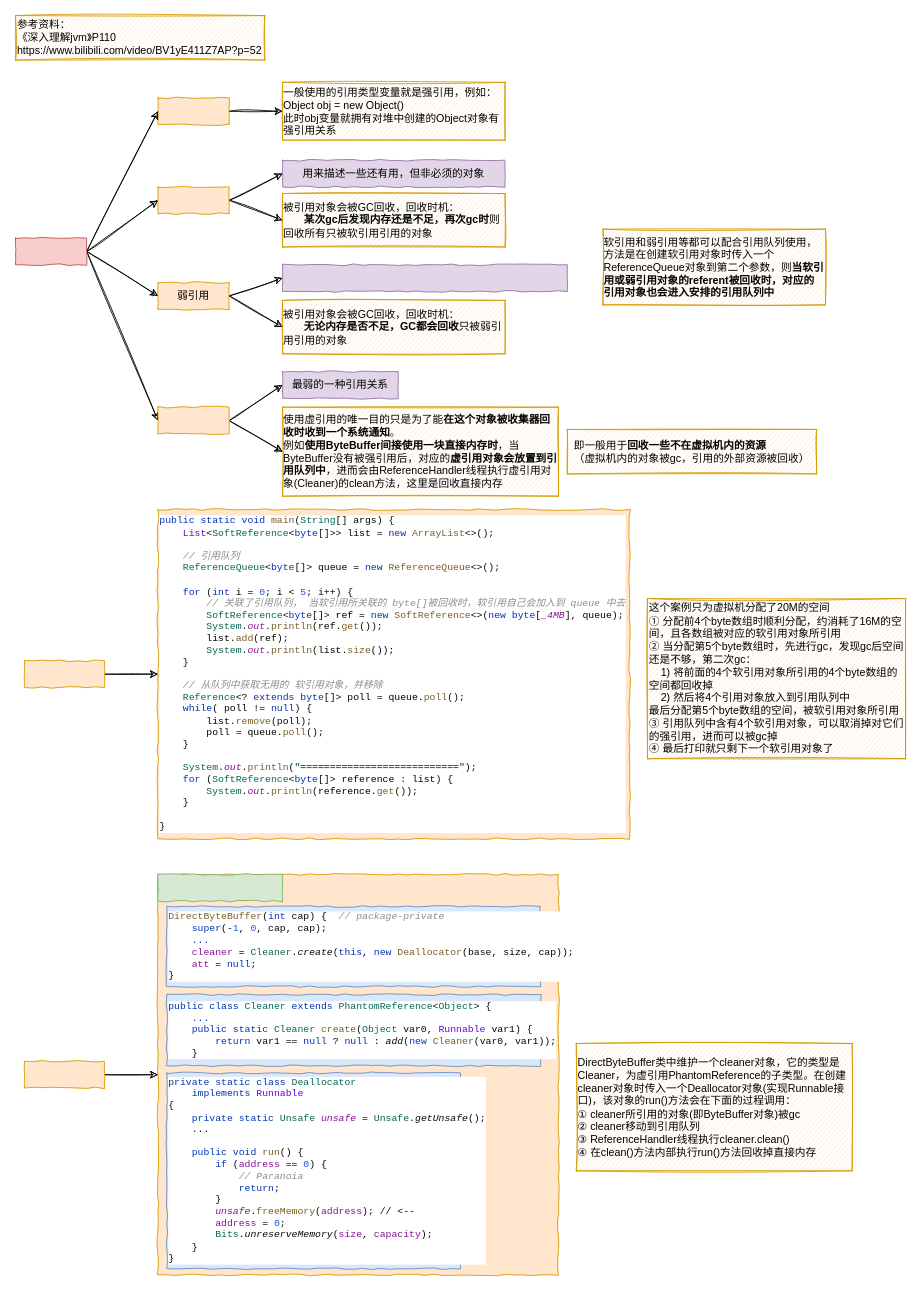
The diagram is 921 pixels wide and 1291 high, and some of its shapes have lost their labels. The centre of each missing label's shape, as x and y in pixels:
"DirectByteBuffer" goes at point (220, 887).
"引用类型" goes at point (51, 251).
"强引用" goes at point (193, 111).
"用来描述那些非必须对象，但是它的强度比软引用更弱一些" goes at point (424, 277).
"虚引用" goes at point (193, 420).
"虚引用案例" goes at point (64, 1074).
"软引用" goes at point (193, 200).
"软引用案例" goes at point (64, 674).
